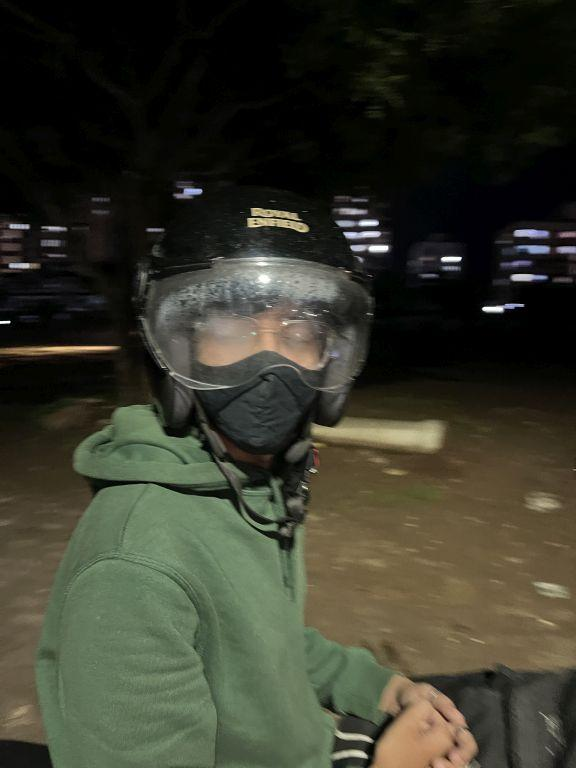helmet: (125, 165, 390, 462)
